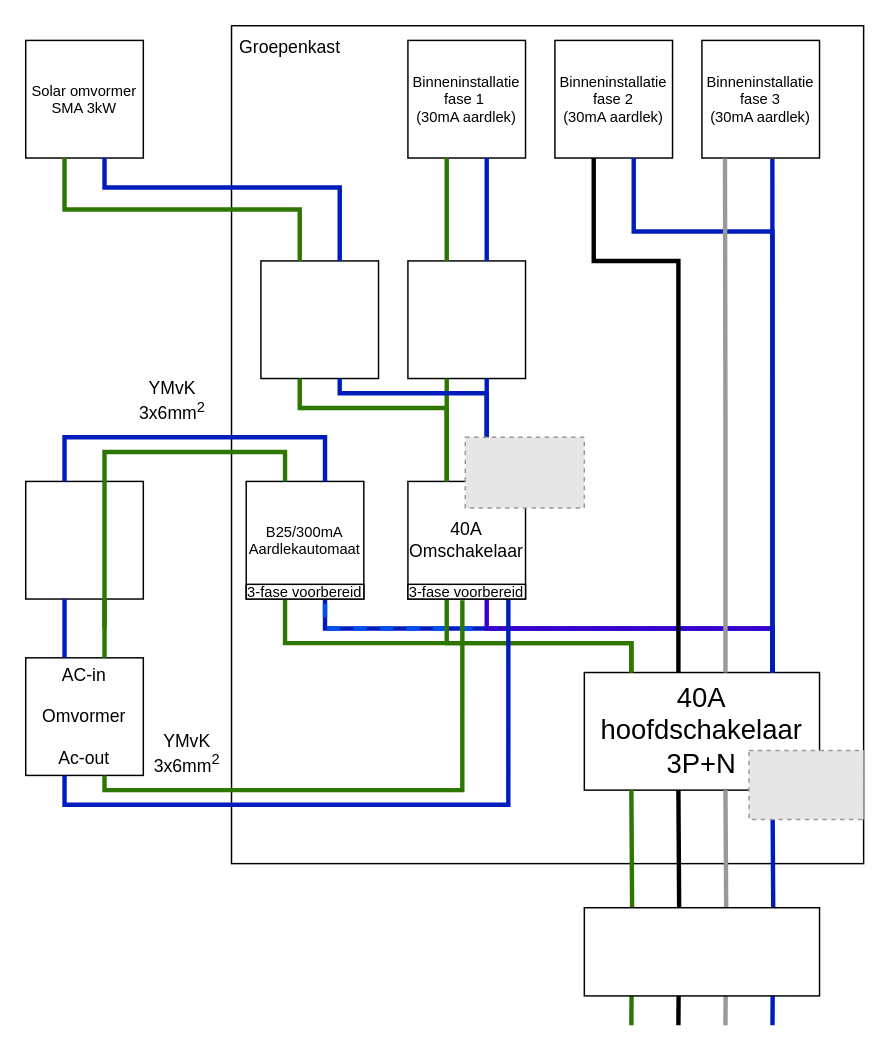
This 889x1054 diagram has some shape labels left out. Grey dashed boxes stand in for pictures. The centre of each missing label's shape, as x and y in pixels:
25A Werk-schakelaar: the point at 83,539
3x25A hoofdaansluiting (automaten): the point at 701,951
B16/300mA Aardlekautomaat (solar): the point at 319,319
B40 Remautomaat: the point at 466,319
